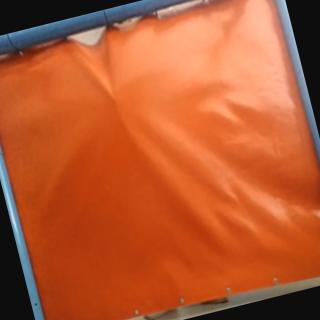Hit-hRxx: (104, 90, 120, 104)
